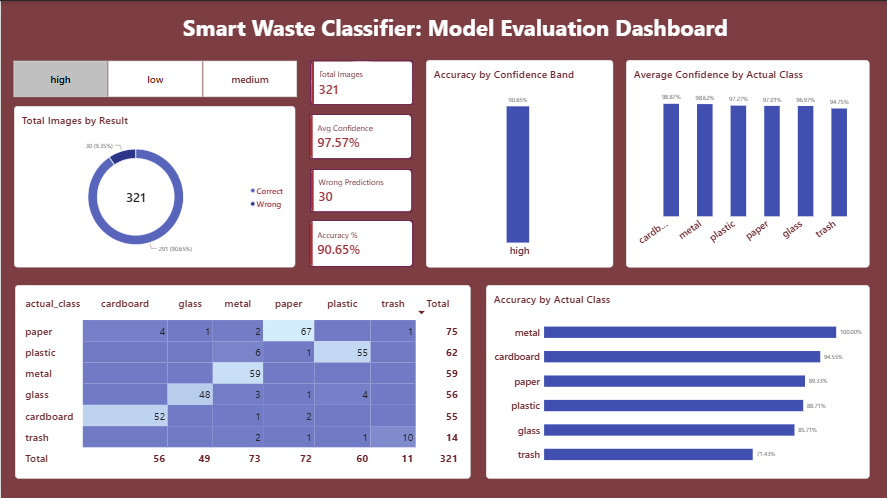

The dashboard page shown, as its layout file describes it:
{"tool":"powerbi","page":{"name":"Page 1","canvas":[1920,1080],"ordinal":0},"visuals":[{"type":"cardVisual","fields":{"Data":["powerbi_export.Accuracy %"]},"box":[668,476,226,102],"z":0},{"type":"cardVisual","fields":{"Data":["powerbi_export.Wrong Predictions"]},"box":[669.6,363.7,222.6,94.1],"z":1000},{"type":"clusteredBarChart","title":"Accuracy by Actual Class","fields":{"Category":["powerbi_export.actual_class"],"Y":["powerbi_export.Accuracy %"]},"box":[1051.4,615.3,832.4,419.8],"z":2000},{"type":"pivotTable","fields":{"Columns":["powerbi_export.predicted_class"],"Rows":["powerbi_export.actual_class"],"Values":["powerbi_export.Total Images"]},"box":[30.8,615.3,988.1,419.8],"z":3000},{"type":"columnChart","title":"Accuracy by Confidence Band","fields":{"Category":["powerbi_export.confidence_band"],"Y":["powerbi_export.Accuracy %"]},"box":[922,128,406,450],"z":4000},{"type":"cardVisual","fields":{"Data":["powerbi_export.Avg Confidence"]},"box":[668,244,224,98],"z":5000},{"type":"slicer","fields":{"Values":["powerbi_export.confidence_band"]},"box":[5.4,128.5,654,82],"z":6000},{"type":"donutChart","fields":{"Category":["powerbi_export.Result"],"Y":["powerbi_export.Total Images"]},"box":[28,228,610,350],"z":7000},{"type":"columnChart","title":"Average Confidence by Actual Class","fields":{"Category":["powerbi_export.actual_class"],"Y":["powerbi_export.Avg Confidence"]},"box":[1356,128,528,450],"z":8000},{"type":"textbox","box":[394,24,1192,72],"z":9000},{"type":"cardVisual","fields":{"Data":["powerbi_export.Total Images"]},"box":[669.6,128.5,224,98],"z":10000}]}

Visuals, with their boxes in screenshot pixels (x1, y1, x2, y2), scaled from the page's 1920x1080 canvas onto the 887x498 screenshot:
cardVisual - powerbi_export.Accuracy %: [309, 219, 413, 267]
cardVisual - powerbi_export.Wrong Predictions: [309, 168, 412, 211]
"Accuracy by Actual Class" clusteredBarChart: [486, 284, 870, 477]
pivotTable - powerbi_export.predicted_class x powerbi_export.actual_class: [14, 284, 471, 477]
"Accuracy by Confidence Band" columnChart: [426, 59, 614, 267]
cardVisual - powerbi_export.Avg Confidence: [309, 113, 412, 158]
slicer - powerbi_export.confidence_band: [2, 59, 305, 97]
donutChart - powerbi_export.Result x powerbi_export.Total Images: [13, 105, 295, 267]
"Average Confidence by Actual Class" columnChart: [626, 59, 870, 267]
textbox: [182, 11, 733, 44]
cardVisual - powerbi_export.Total Images: [309, 59, 413, 104]
